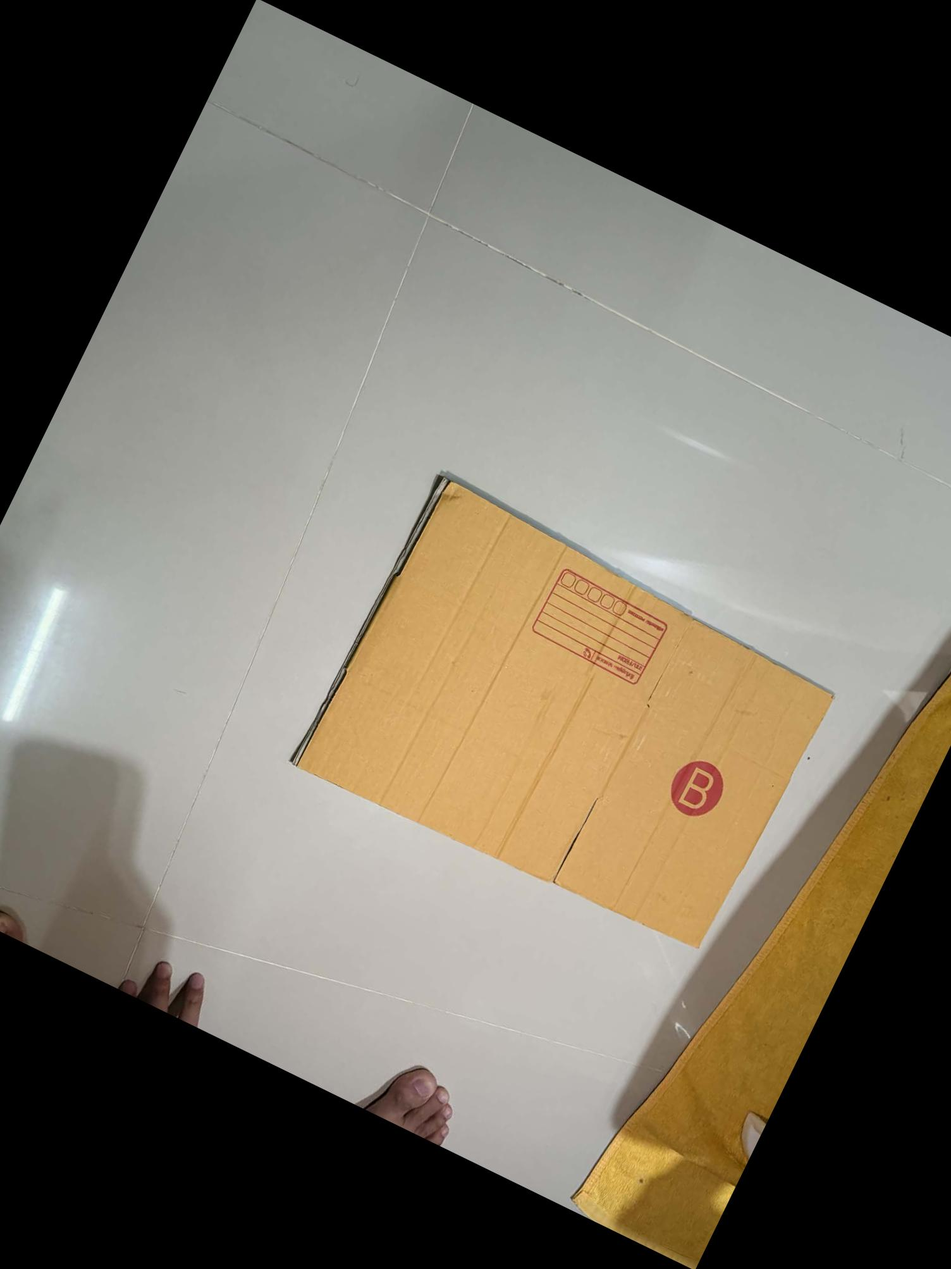box: (522, 565, 677, 700), (657, 742, 739, 832)
class0: (276, 466, 850, 968)
